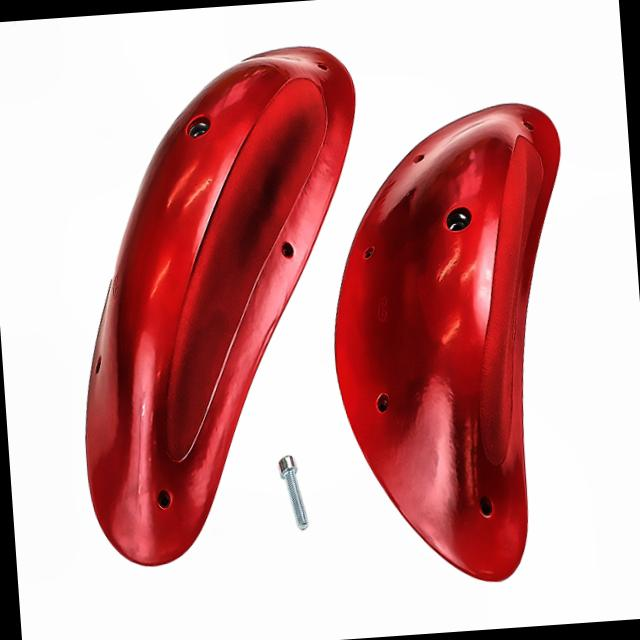Hold: (66, 28, 381, 606), (319, 88, 580, 601)
